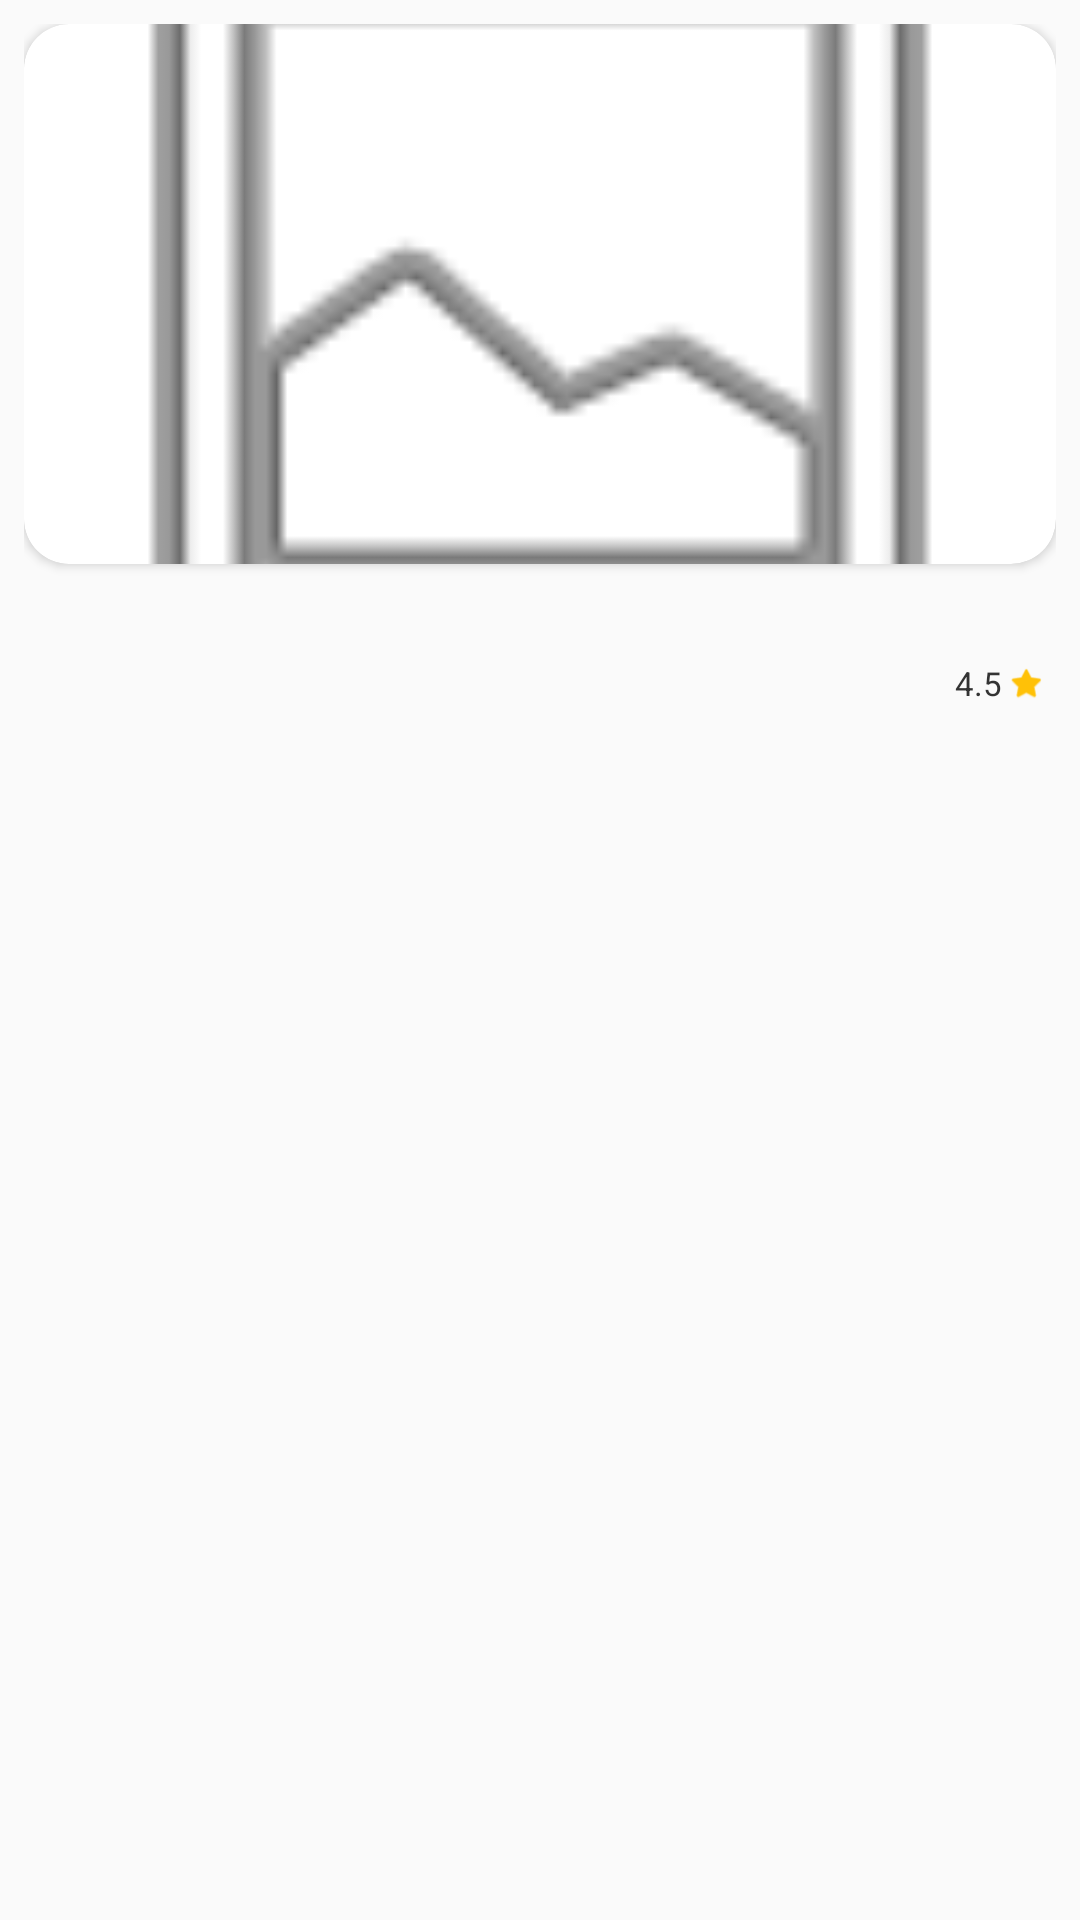

Locate icon controls on the screen. Image size 1080*1920, boxes as [x1, y1, x2, y2].
star on: [1011, 669, 1041, 698]
